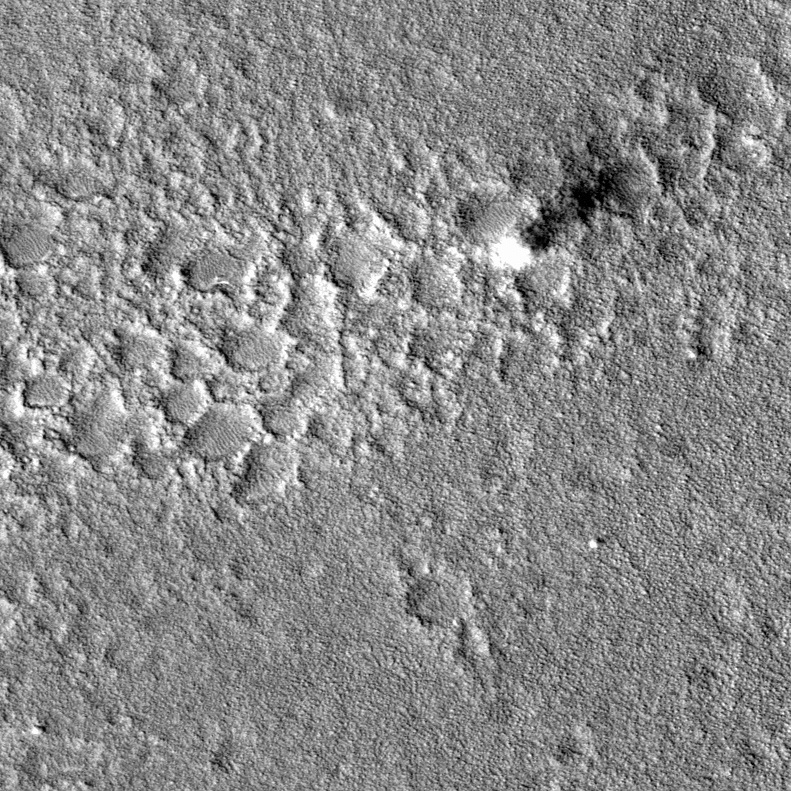dust_devil: (487, 161, 636, 274)
